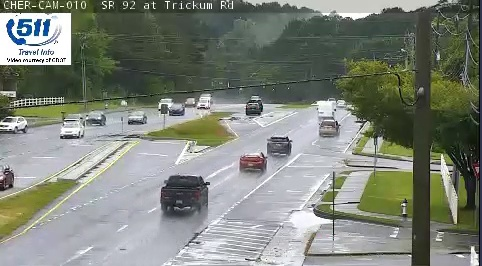car: (160, 175, 208, 209), (267, 136, 292, 153), (240, 153, 266, 169), (319, 120, 340, 135)
van: (317, 101, 336, 122)
